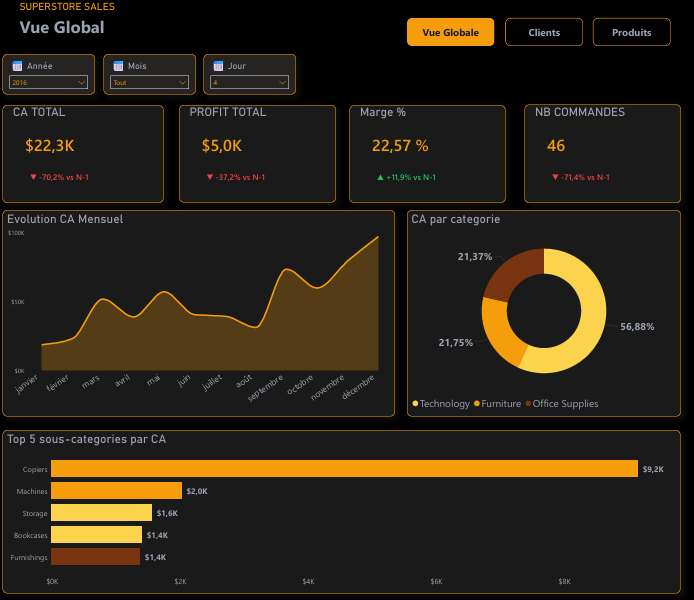

The page's visual inventory and layout, read from the dashboard file:
{"tool":"powerbi","page":{"name":"Page 1","canvas":[1400,1200],"ordinal":0},"visuals":[{"type":"shape","title":"SUPERSTORE SALES","box":[47.3,0,300.2,89.2],"z":0},{"type":"cardVisual","title":"CA TOTAL","fields":{"Data":["_Mesures.CA Total"]},"box":[13.1,207.6,322.3,196],"z":1000},{"type":"slicer","fields":{"Values":["Calendrier.Année"]},"box":[12.7,105.5,185.6,81.9],"z":2000},{"type":"slicer","fields":{"Values":["Calendrier.Mois"]},"box":[214.7,105.5,185.6,81.9],"z":3000},{"type":"slicer","fields":{"Values":["Calendrier.Jour"]},"box":[414.8,105.5,185.6,81.9],"z":4000},{"type":"cardVisual","title":"PROFIT TOTAL","fields":{"Data":["_Mesures.Profit Total"]},"box":[365.7,208,314,195.4],"z":5000},{"type":"cardVisual","title":"NB COMMANDES","fields":{"Data":["_Mesures.Nb Commandes"]},"box":[1057.1,207.4,312.9,196.5],"z":6000},{"type":"cardVisual","title":"Marge %","fields":{"Data":["_Mesures.Marge %"]},"box":[707,207.6,312.1,196],"z":7000},{"type":"lineChart","title":"Evolution CA Mensuel","fields":{"Y":["_Mesures.CA Total"],"Category":["Calendrier.Mois Nom"]},"box":[12.7,418.2,785.5,412.7],"z":8000},{"type":"donutChart","title":"CA par categorie","fields":{"Y":["_Mesures.CA Total"],"Category":["Sample - Superstore.Category"]},"box":[822.4,418.5,547.7,413],"z":9000},{"type":"clusteredBarChart","title":"Top 5 sous-categories par CA","fields":{"Category":["Sample - Superstore.Sub-Category"],"Y":["_Mesures.CA Total"]},"box":[12.7,858.2,1356.4,327.3],"z":10000},{"type":"shape","box":[822.4,34,174.7,55.8],"z":11000},{"type":"shape","box":[1018.9,34,155.3,55.8],"z":12000},{"type":"shape","box":[1193.6,34,155.3,55.8],"z":13000}]}

Visuals, with their boxes in screenshot pixels (x1, y1, x2, y2), scaled from the page's 1400x1200 canvas onto the 694x600 screenshot:
"SUPERSTORE SALES" shape: select_region(23, 0, 172, 45)
"CA TOTAL" cardVisual: select_region(6, 104, 166, 202)
slicer - Calendrier.Année: select_region(6, 53, 98, 94)
slicer - Calendrier.Mois: select_region(106, 53, 198, 94)
slicer - Calendrier.Jour: select_region(206, 53, 298, 94)
"PROFIT TOTAL" cardVisual: select_region(181, 104, 337, 202)
"NB COMMANDES" cardVisual: select_region(524, 104, 679, 202)
"Marge %" cardVisual: select_region(350, 104, 505, 202)
"Evolution CA Mensuel" lineChart: select_region(6, 209, 396, 415)
"CA par categorie" donutChart: select_region(408, 209, 679, 416)
"Top 5 sous-categories par CA" clusteredBarChart: select_region(6, 429, 679, 593)
shape: select_region(408, 17, 494, 45)
shape: select_region(505, 17, 582, 45)
shape: select_region(592, 17, 669, 45)
